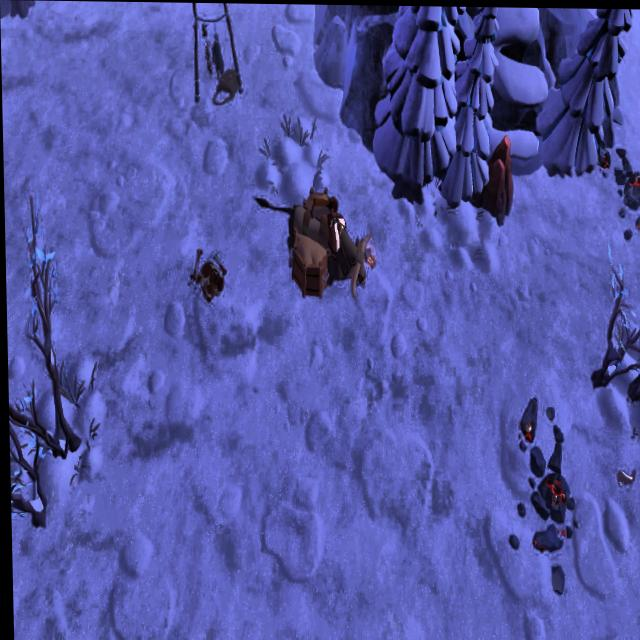rock_t5: (471, 132, 517, 223)
